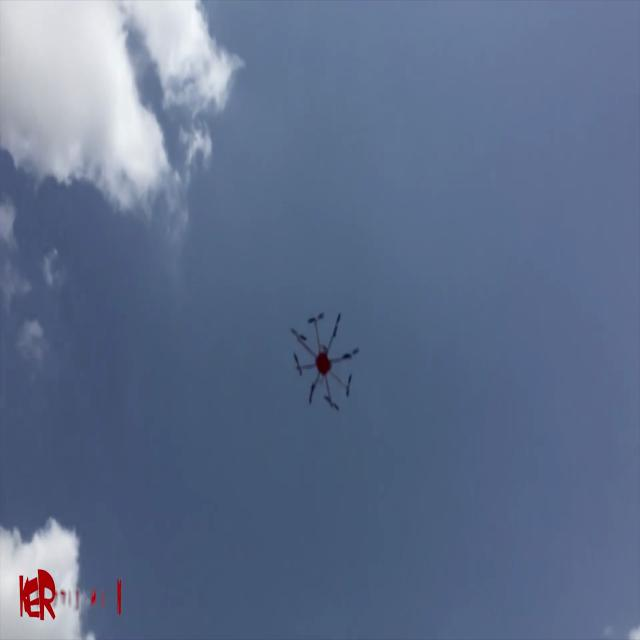drone: (288, 309, 360, 418)
